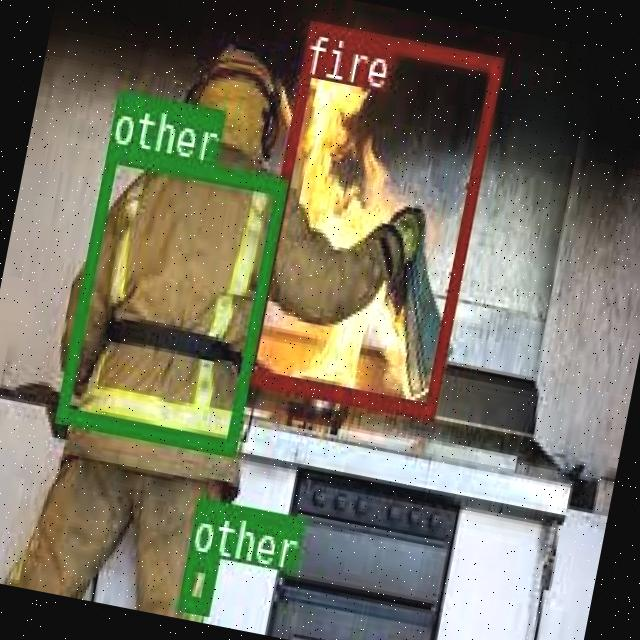fire: (238, 18, 502, 417)
